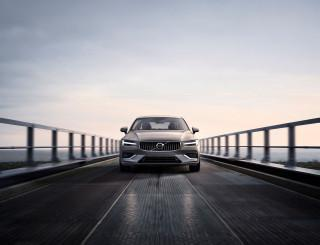volvo: (154, 140, 167, 152)
